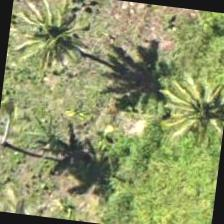Kelapa_Sawit: (28, 2, 128, 102), (0, 70, 65, 168), (158, 63, 223, 161)
